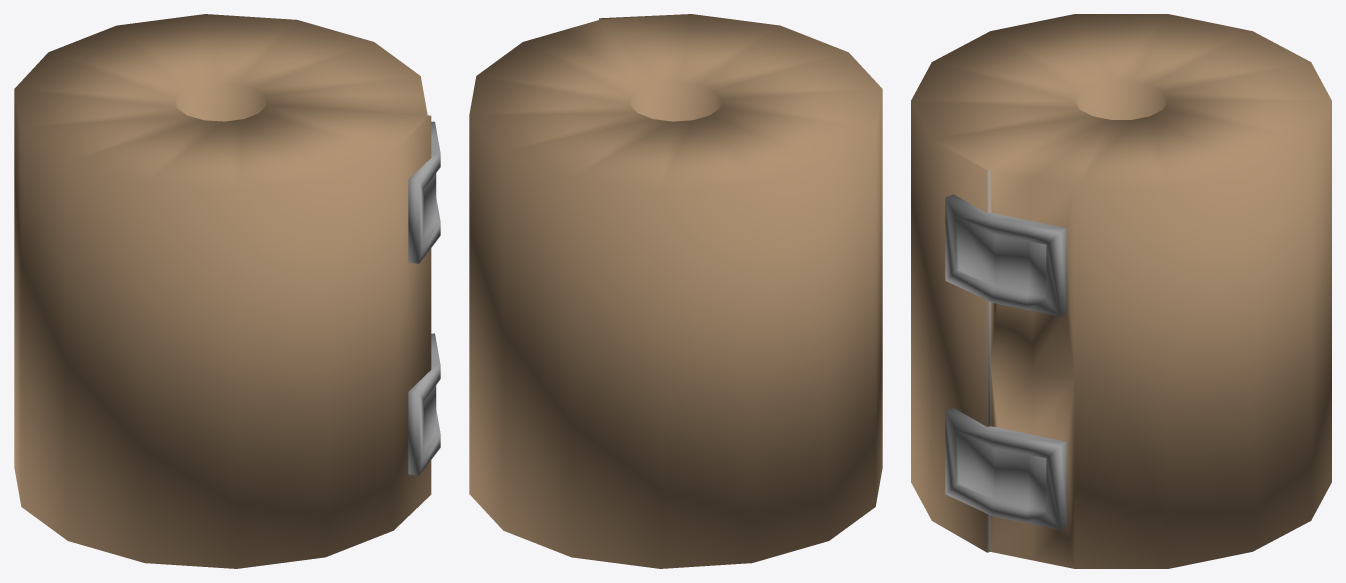
The model's file is BandageRoll.fbx.
3 renders of one model, left to right at view 1: azimuth 30°, elevation 25°; view 2: azimuth 150°, elevation 25°; view 3: azimuth 270°, elevation 25°, orthographic.
Visible parts, largest first — view 1: Bandage Roll; view 2: Bandage Roll; view 3: Bandage Roll.
Part boxes in pixels (left/top/right/bottom): Bandage Roll: left=14, top=14, right=440, bottom=568; Bandage Roll: left=469, top=14, right=882, bottom=568; Bandage Roll: left=911, top=14, right=1331, bottom=568.
Size of the model in its own units: 5.08 by 5.1 by 5.1.
